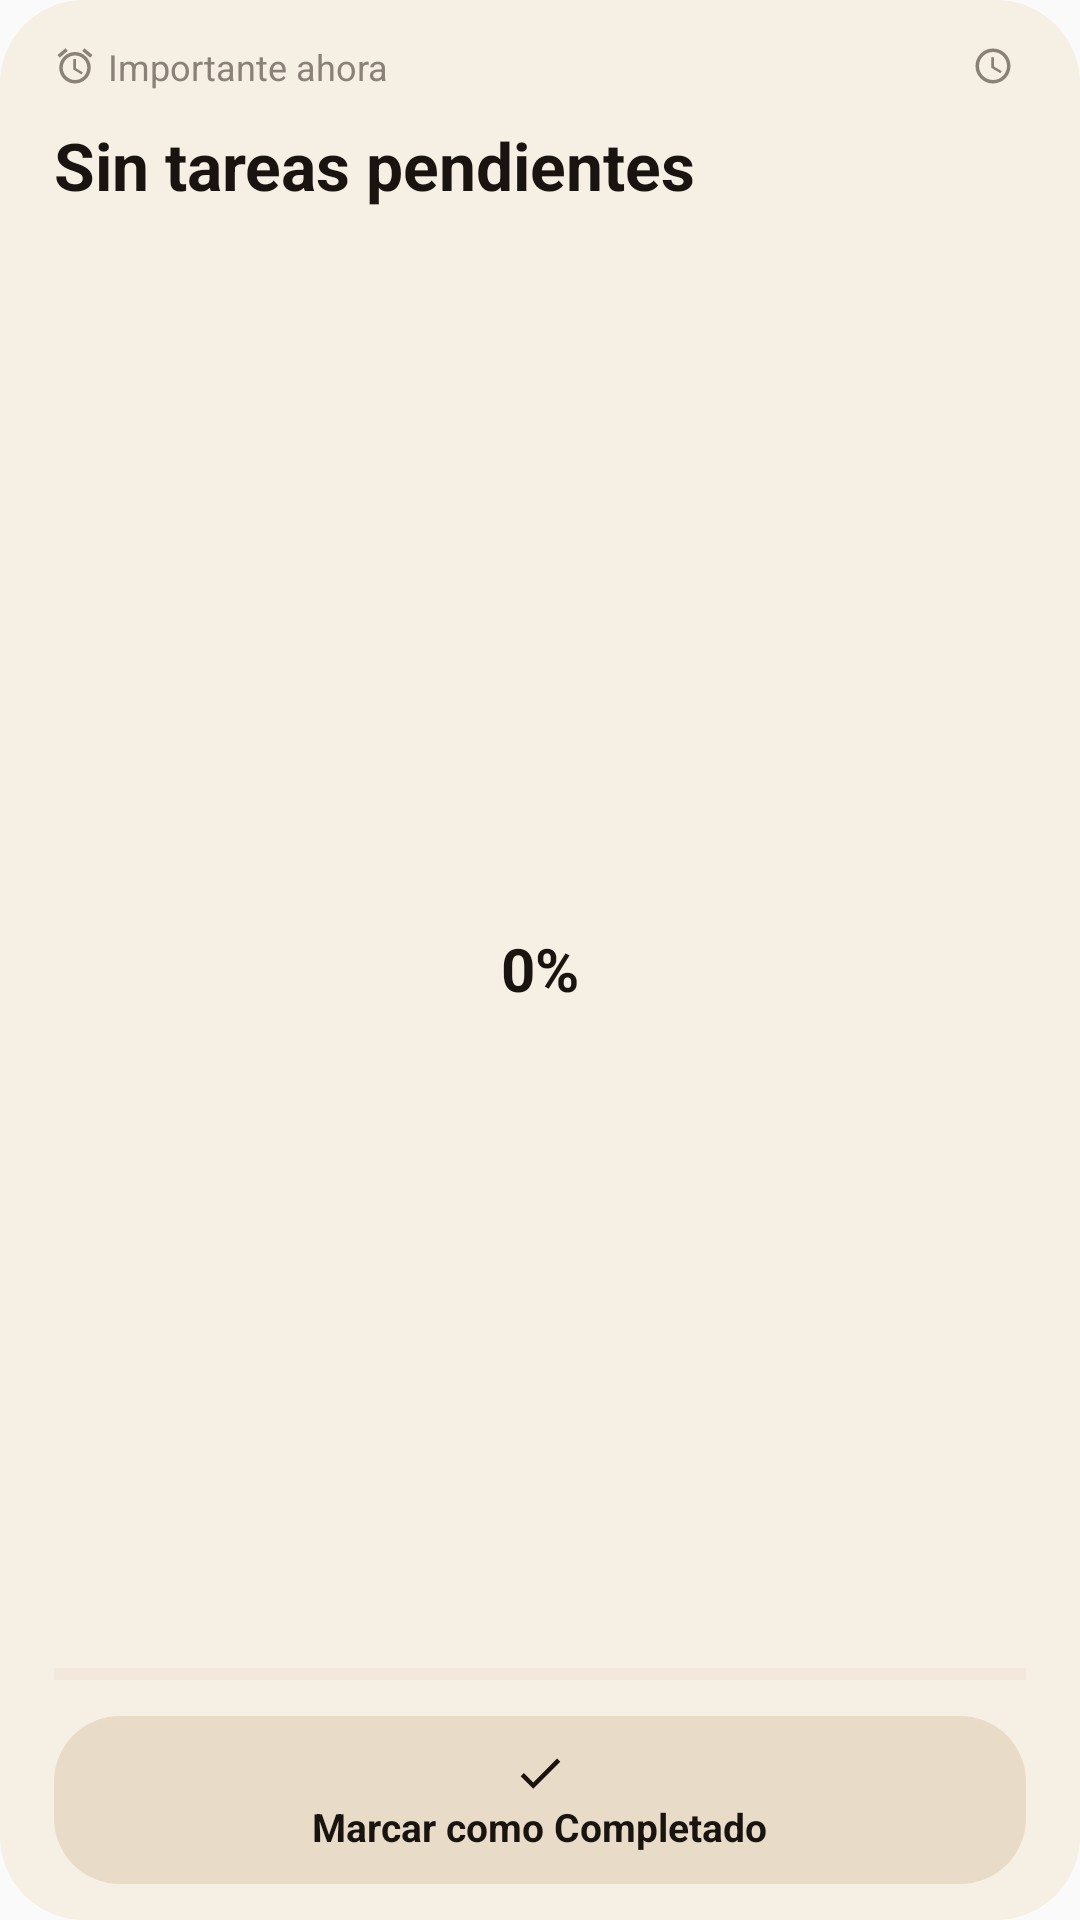

Icons on this 1080px x 1920px Android screen, each with the point to tap as (x=x, y=y):
widget alarm: (x=75, y=66)
widget check: (x=540, y=1773)
